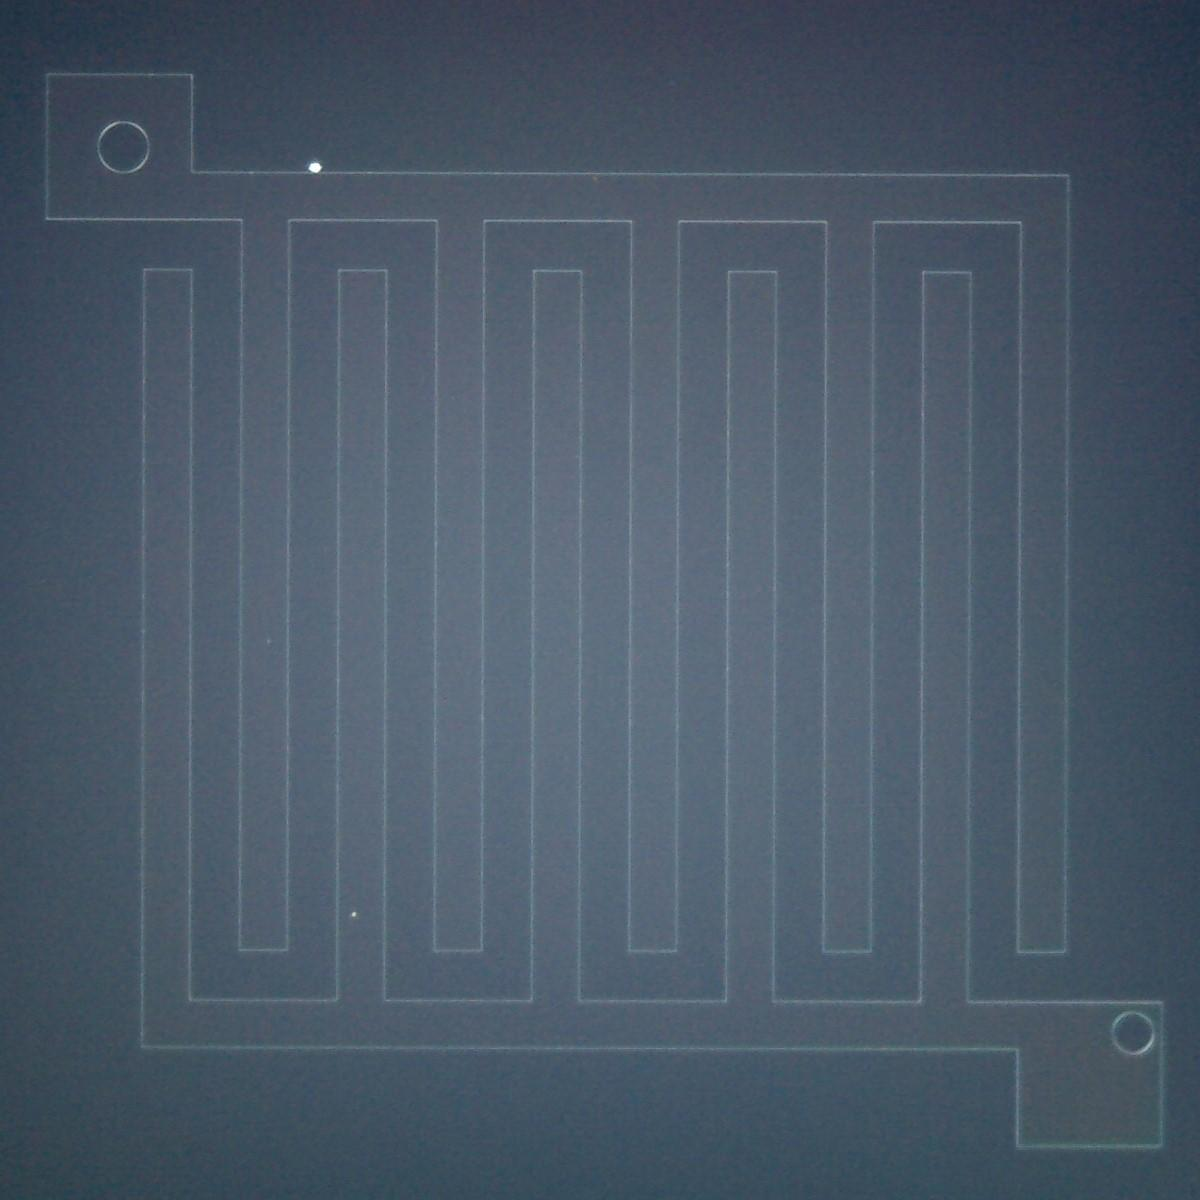B_point: (307, 159, 323, 176)
circle: (97, 120, 152, 176), (1110, 1009, 1157, 1057)
s_point: (263, 635, 276, 648), (348, 909, 359, 921), (591, 175, 599, 182)
